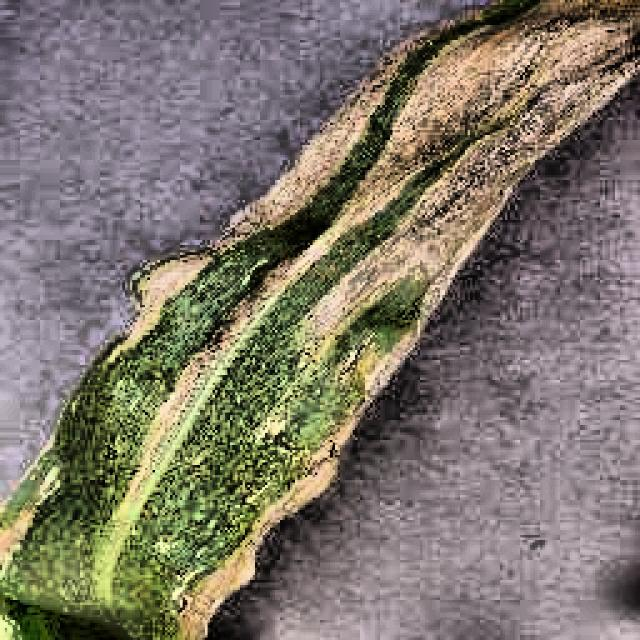blight: (142, 7, 514, 550)
